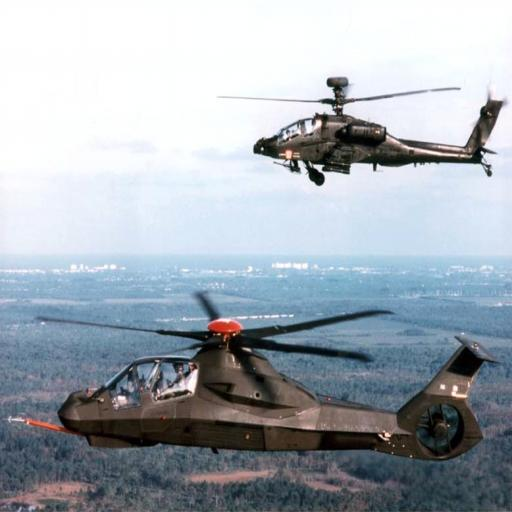helicopter: (34, 282, 503, 471), (222, 74, 510, 193)
